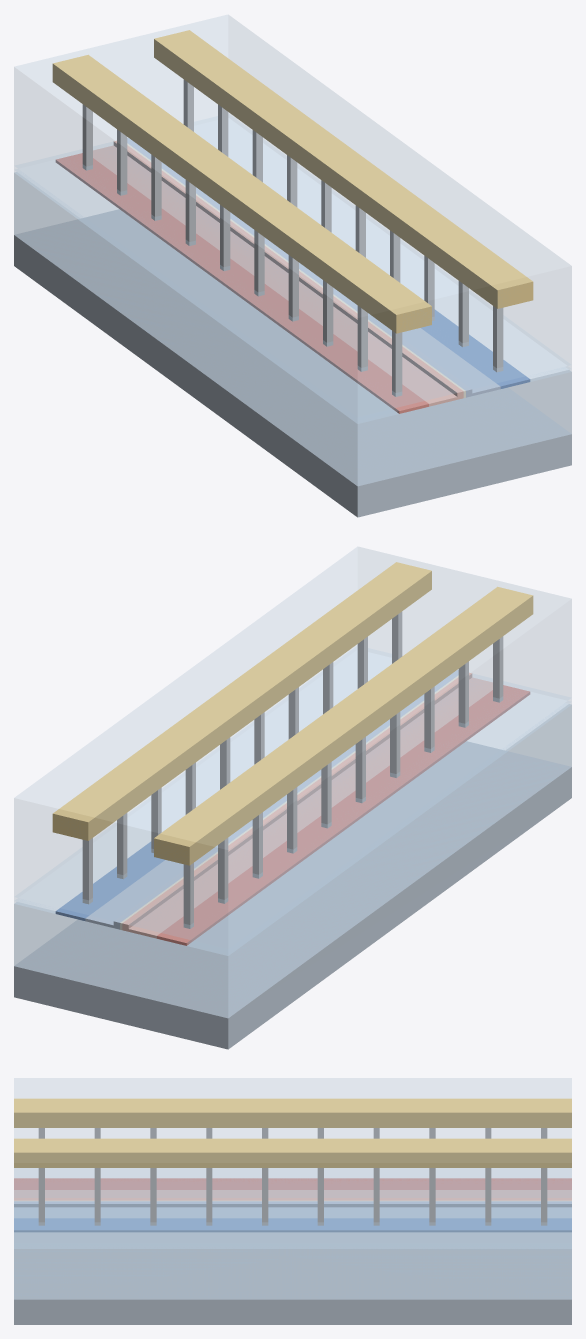
File: stack-pn.glb
The picture shows the model from 3 angles, top to bottom: view 1: azimuth 30°, elevation 25°; view 2: azimuth 150°, elevation 25°; view 3: azimuth 270°, elevation 25°; orthographic projection. The views are drawn at different scales.
Parts seen in each view (by area): view 1: cladx, sisub, metal1, box, wplug, pdop, pp, ndop, nn, dep; view 2: cladx, sisub, metal1, box, wplug, pdop, pp, ndop, nn, dep; view 3: cladx, sisub, metal1, box, ndop, nn, pp, pdop, wplug, dep.
Part boxes in pixels (bbox=[...]): cladx: bbox=[14, 15, 571, 423]; sisub: bbox=[14, 209, 571, 517]; metal1: bbox=[52, 30, 533, 333]; box: bbox=[14, 172, 571, 485]; wplug: bbox=[82, 79, 503, 396]; pdop: bbox=[93, 140, 463, 406]; pp: bbox=[55, 153, 428, 413]; ndop: bbox=[127, 138, 500, 397]; nn: bbox=[421, 310, 530, 388]; dep: bbox=[127, 143, 465, 397]; cladx: bbox=[14, 547, 571, 955]; sisub: bbox=[14, 741, 571, 1049]; metal1: bbox=[52, 562, 533, 865]; box: bbox=[14, 703, 571, 1017]; wplug: bbox=[82, 611, 503, 928]; pdop: bbox=[122, 672, 492, 938]; pp: bbox=[157, 685, 530, 945]; ndop: bbox=[85, 670, 458, 929]; nn: bbox=[55, 842, 164, 920]; dep: bbox=[120, 675, 458, 929]; cladx: bbox=[14, 1078, 571, 1248]; sisub: bbox=[14, 1232, 571, 1324]; metal1: bbox=[14, 1098, 571, 1167]; box: bbox=[14, 1244, 571, 1299]; ndop: bbox=[14, 1201, 571, 1218]; nn: bbox=[14, 1218, 571, 1232]; pp: bbox=[14, 1178, 571, 1189]; pdop: bbox=[14, 1190, 571, 1200]; wplug: bbox=[38, 1128, 547, 1225]; dep: bbox=[14, 1200, 571, 1201].
Bounding box in the file's own units: 7.2 × 6.4 × 20.
